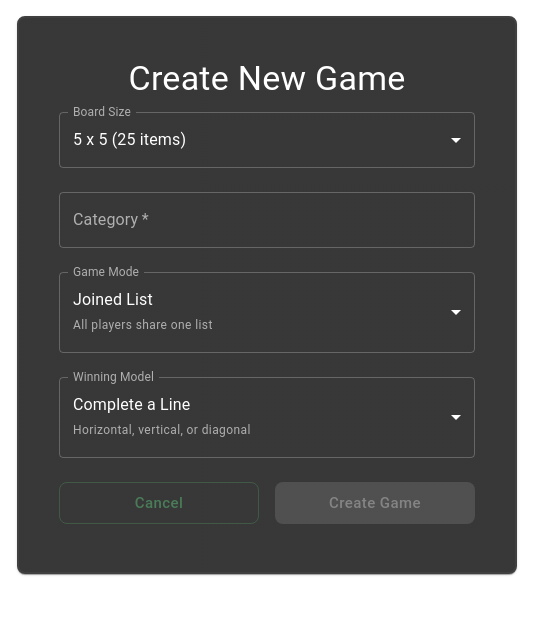
GameCreationForm › Form Interactions › allows changing winning model
Press the mouse on the dropdown named "Winning Model" at {"x": 162, "y": 416}, box [73,395,251,437]
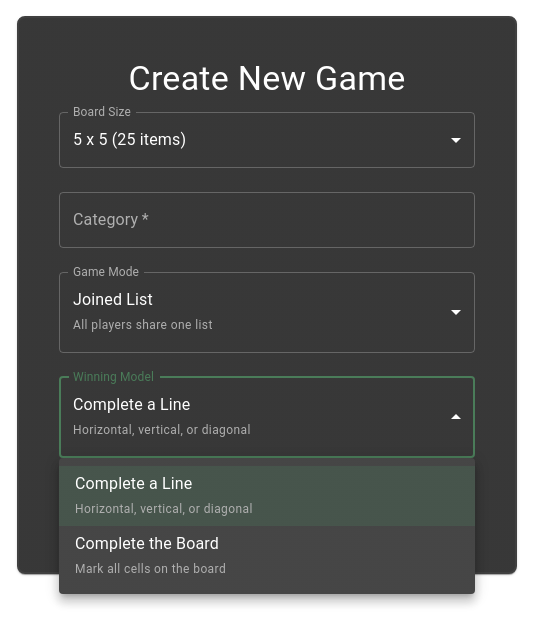
Click the text "Complete the Board" at {"x": 151, "y": 544}, box [75,532,226,556]
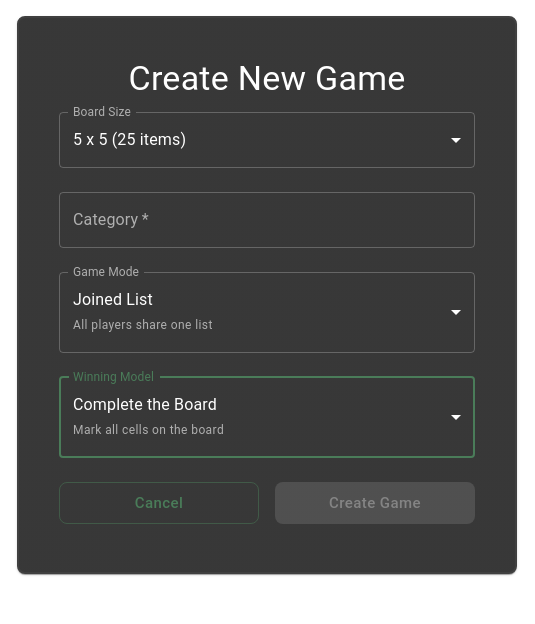
Now the text "Complete the Board" is shown 2 times
